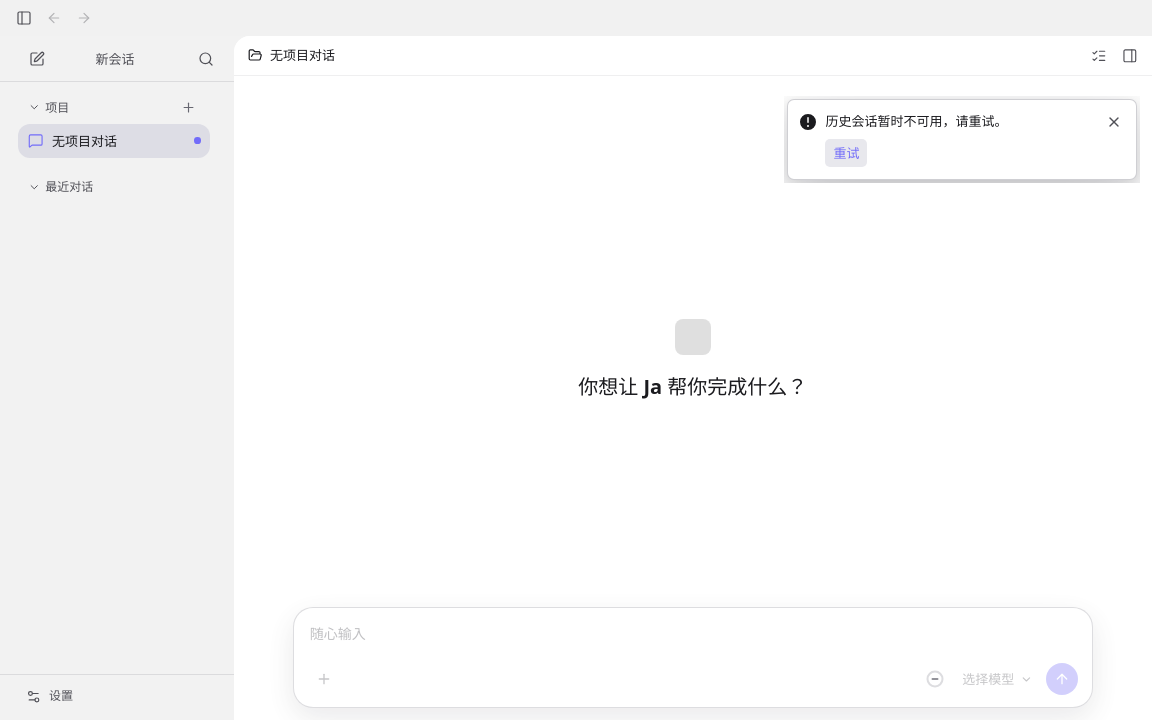
Test case: Ja desktop shell v1 › offers a scoped history retry without duplicating the sidebar error
Expected: the list item "历史会话暂时不可用，请重试。" is shown, [825,112,1007,130]
Expected: the text "还没有历史对话。" is not shown
Click the button "重试" at (846, 153), box [825,139,867,167]
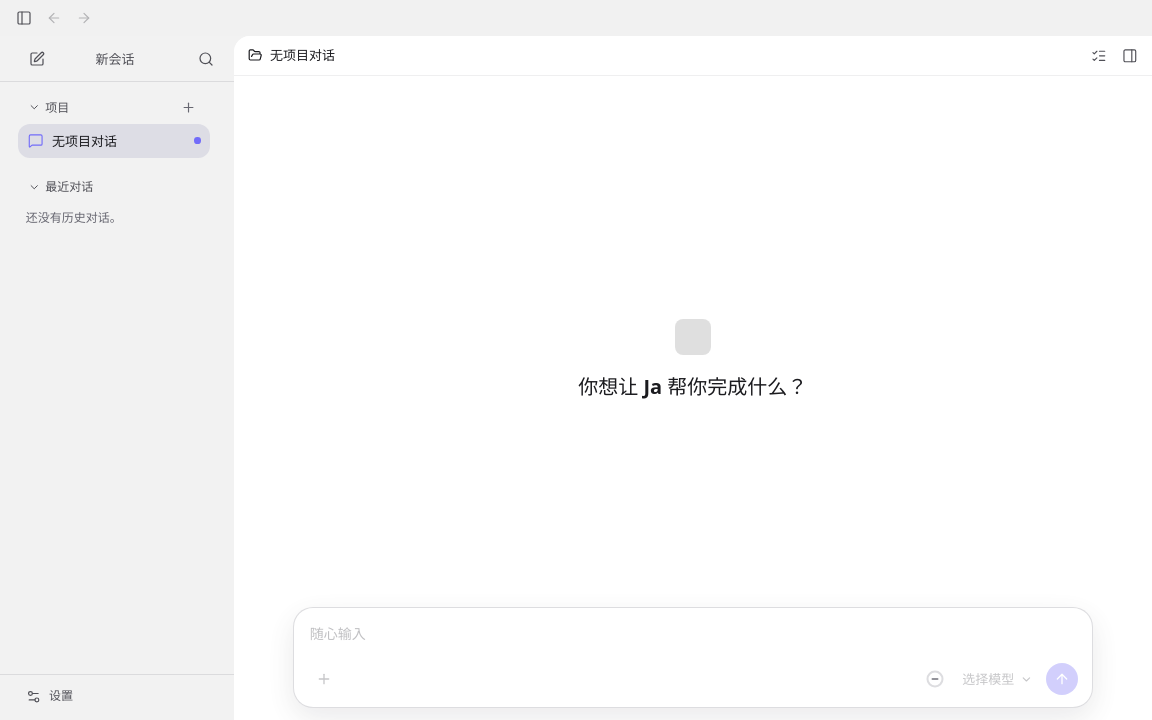
Result: the text "还没有历史对话。" is shown at [26,209,122,226]
Result: the text "历史会话暂时不可用，请重试。" is gone
